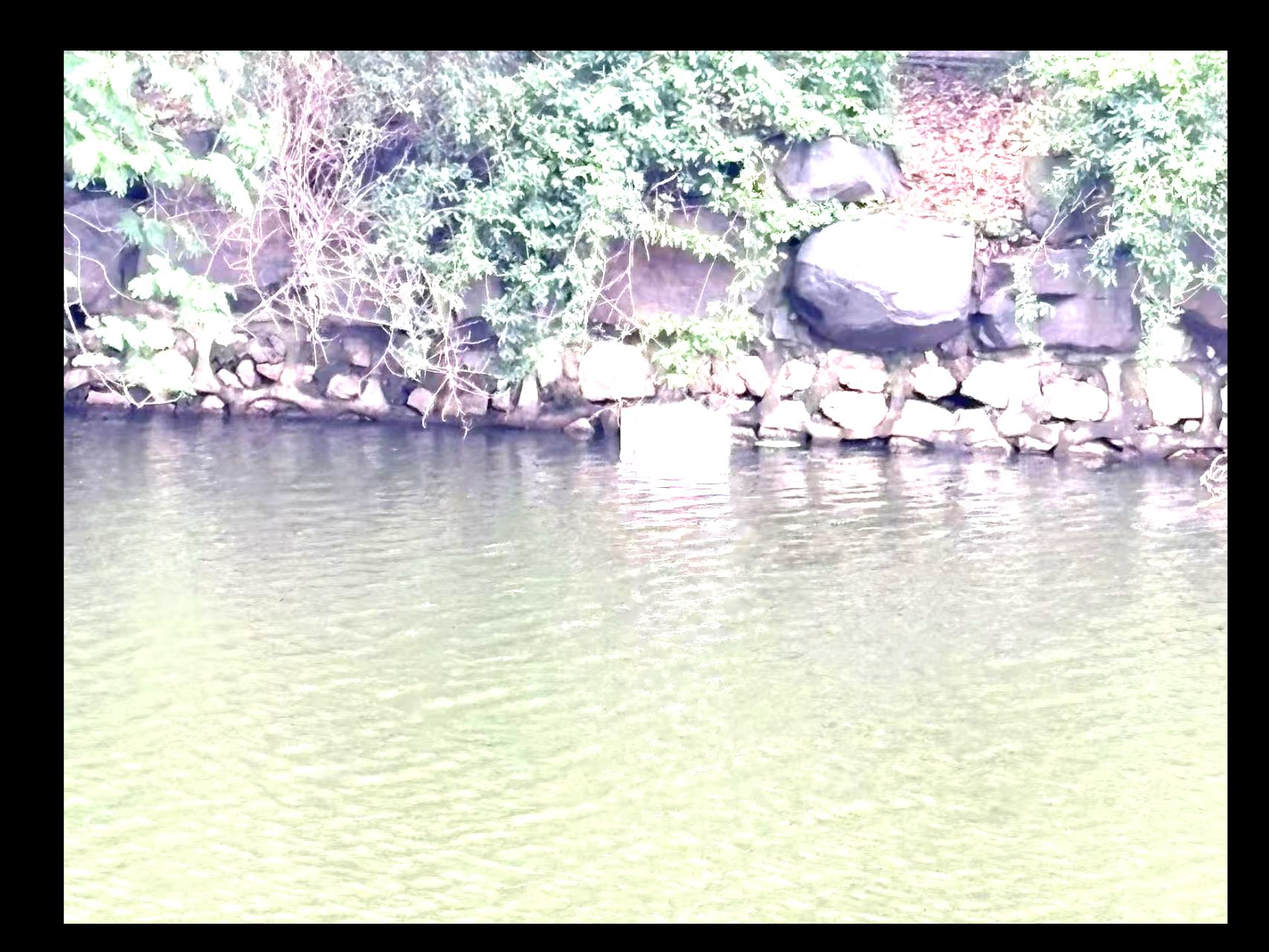Plastic wastes: (619, 406, 733, 459)
